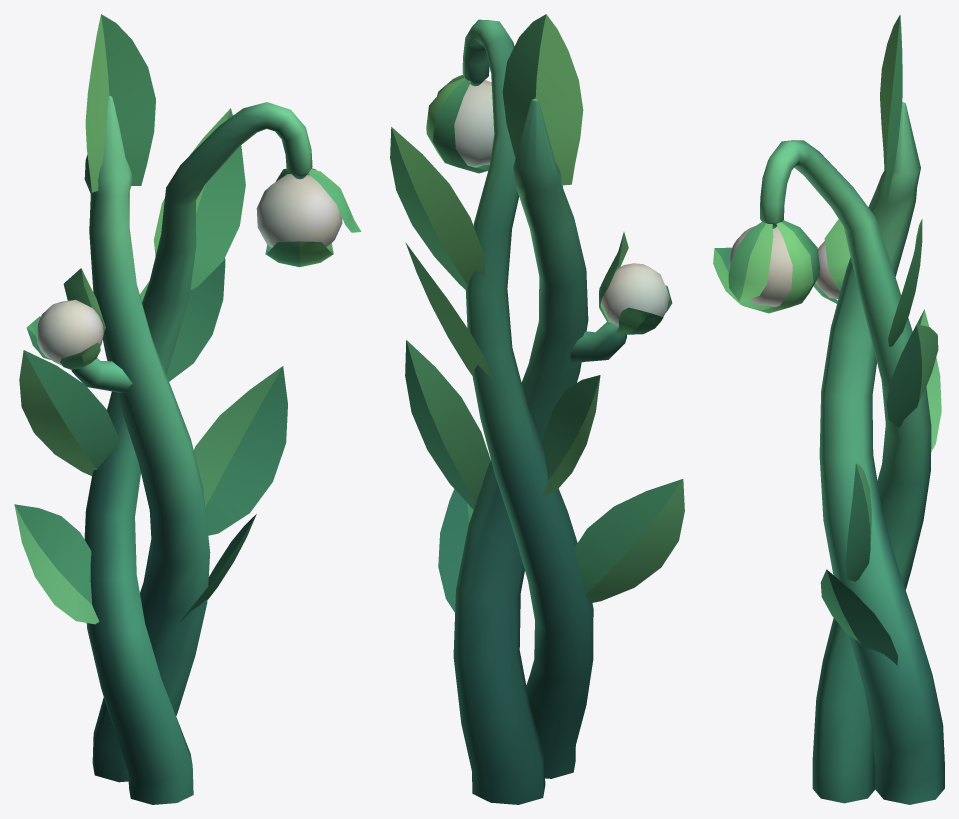
The model's file is Leviathan_Kelp_Tree_Remake_Loose.glb.
The picture shows the model from 3 angles, left to right: view 1: azimuth 30°, elevation 25°; view 2: azimuth 150°, elevation 25°; view 3: azimuth 270°, elevation 25°; orthographic projection. The views are drawn at different scales.
Parts seen in each view (by area): view 1: Kelp_Remake; view 2: Kelp_Remake; view 3: Kelp_Remake.
Part boxes in pixels (x1,y1,x2,y2): Kelp_Remake: (14,14,361,804); Kelp_Remake: (390,14,684,804); Kelp_Remake: (713,14,944,804).
Bounding box in the file's own units: 4.64 × 11.63 × 3.22.
